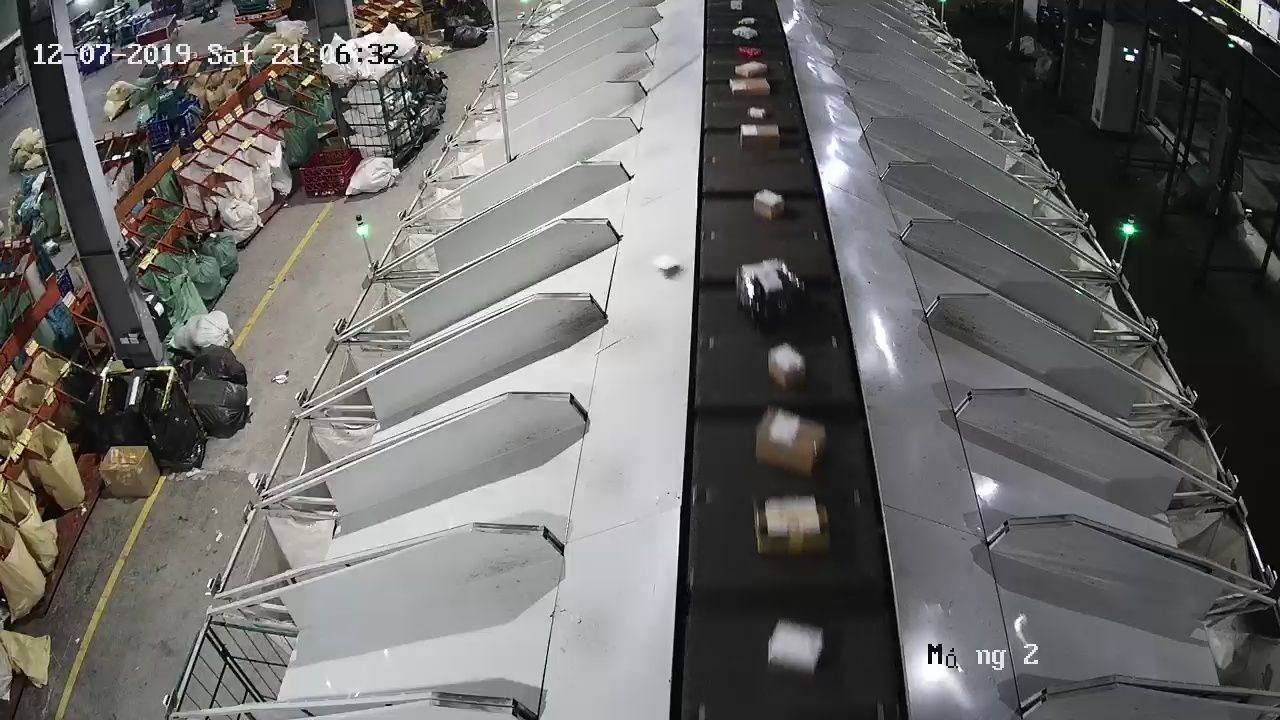parcel: (649, 253, 682, 278)
